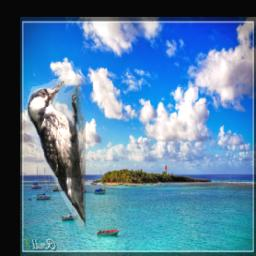Woodpecker: (27, 80, 85, 231)
